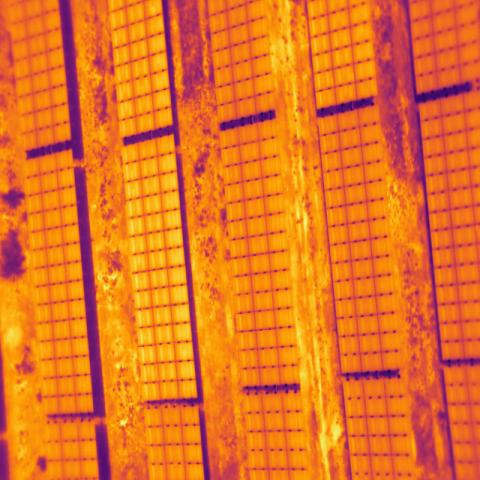fault: (143, 0, 163, 18)
